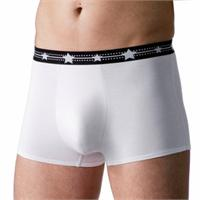mutande: (16, 38, 189, 166)
